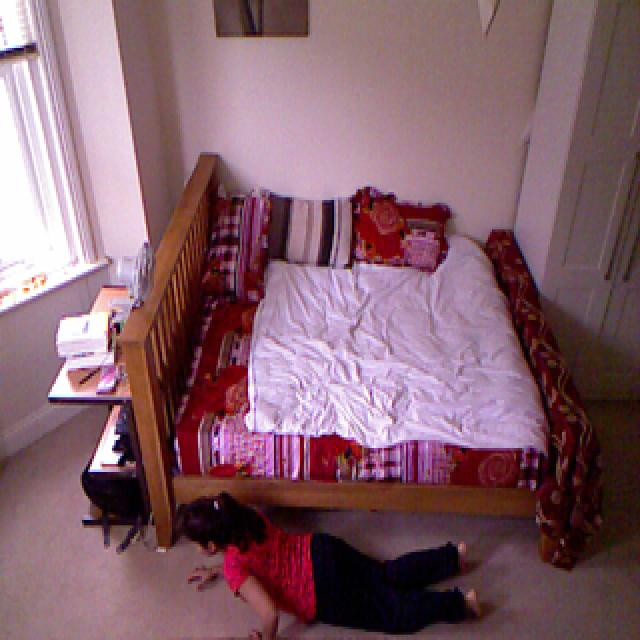lying: (160, 489, 486, 640)
